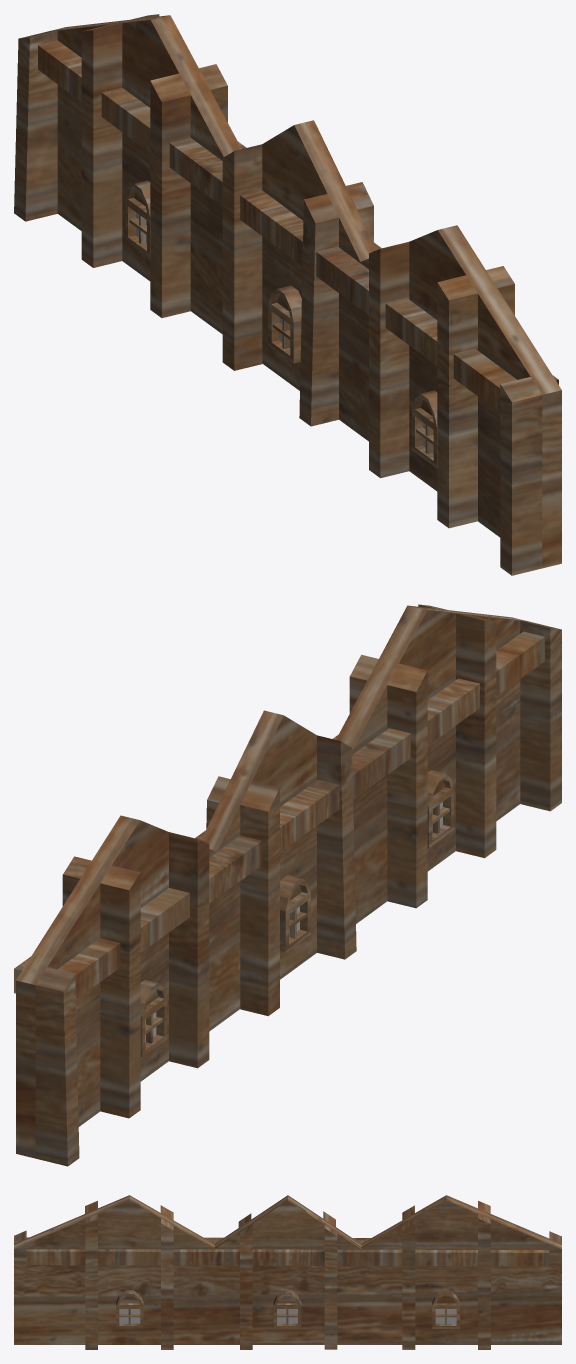
File: Butcher_backwall.fbx
The picture shows the model from 3 angles, top to bottom: view 1: azimuth 30°, elevation 25°; view 2: azimuth 150°, elevation 25°; view 3: azimuth 270°, elevation 25°; orthographic projection. The views are drawn at different scales.
Parts seen in each view (by area): view 1: Butcher_backwall1; view 2: Butcher_backwall1; view 3: Butcher_backwall1.
Part boxes in pixels (x1=…): Butcher_backwall1: x1=14, y1=14, x2=561, y2=575; Butcher_backwall1: x1=14, y1=604, x2=561, y2=1166; Butcher_backwall1: x1=14, y1=1195, x2=561, y2=1349.
Size of the model in its own units: 12.33 by 44.47 by 152.
